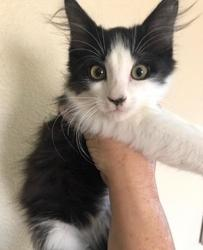ragdoll: (48, 1, 196, 130)
